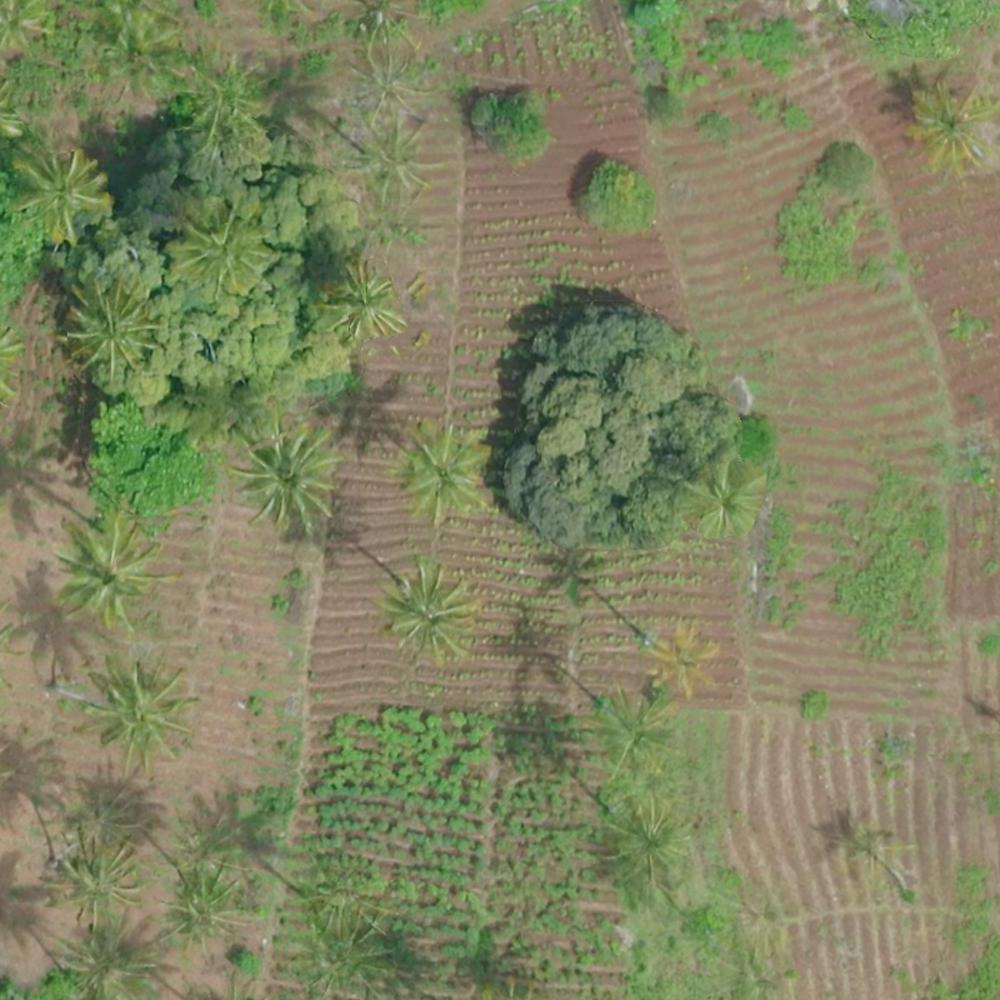Palm: (80, 659, 192, 772), (53, 509, 161, 626), (237, 417, 343, 523), (382, 560, 479, 660), (392, 425, 492, 517), (66, 275, 160, 368), (46, 835, 140, 928), (172, 197, 270, 285), (19, 150, 112, 239), (907, 79, 995, 172), (321, 261, 403, 342), (681, 452, 758, 535), (645, 621, 721, 697)
